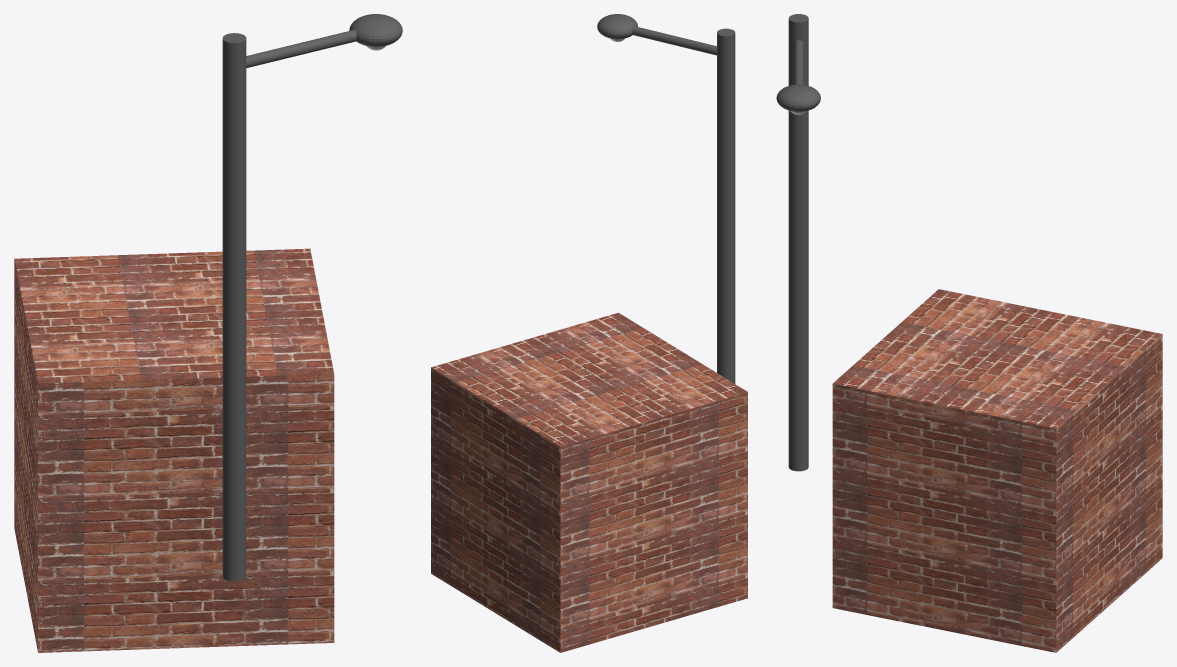
File: Task-un13.fbx
3 views of the same model, side by side, from view 1: azimuth 30°, elevation 25°; view 2: azimuth 150°, elevation 25°; view 3: azimuth 270°, elevation 25° (orthographic). The views are drawn at different scales.
Visible parts, largest first — view 1: Cube, LampPole, Cylinder, Sphere; view 2: Cube, LampPole, Cylinder, Sphere; view 3: Cube, LampPole, Sphere.
Boxes of the visible parts, bbox=[...] form: Cube: bbox=[14, 248, 334, 652]; LampPole: bbox=[222, 33, 246, 581]; Cylinder: bbox=[246, 30, 356, 67]; Sphere: bbox=[349, 14, 402, 46]; Cube: bbox=[431, 312, 747, 652]; LampPole: bbox=[717, 28, 735, 383]; Cylinder: bbox=[632, 26, 716, 55]; Sphere: bbox=[597, 14, 637, 39]; Cube: bbox=[832, 289, 1162, 652]; LampPole: bbox=[788, 14, 808, 471]; Sphere: bbox=[776, 84, 820, 111].
Size of what is drawn, in the model's own units: 266 by 482 by 312.
3 materials, 1 textured.
